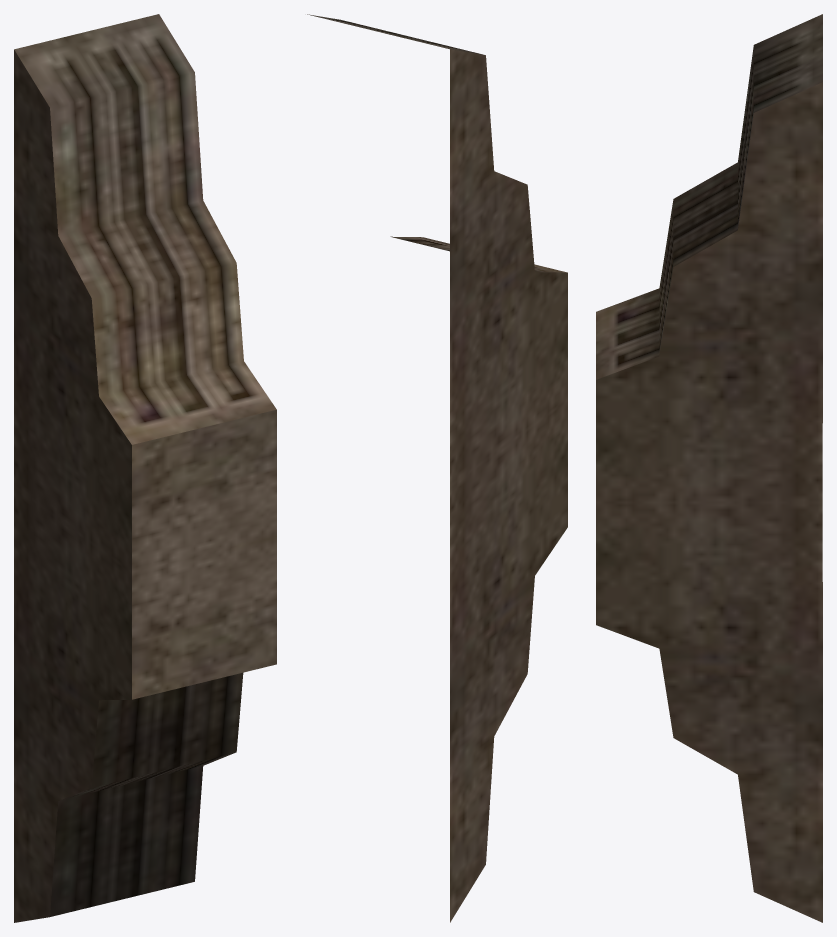
The picture shows the model from 3 angles, left to right: view 1: azimuth 30°, elevation 25°; view 2: azimuth 150°, elevation 25°; view 3: azimuth 270°, elevation 25°; orthographic projection. The views are drawn at different scales.
Visible parts, largest first — view 1: model_Object24; view 2: model_Object24; view 3: model_Object24.
Part boxes in pixels (x1=…): model_Object24: x1=14, y1=14, x2=276, y2=922; model_Object24: x1=307, y1=14, x2=567, y2=922; model_Object24: x1=596, y1=14, x2=822, y2=922.
Bounding box in the file's own units: 0.4898 × 2.82 × 0.6893.
1 material, 1 textured.
